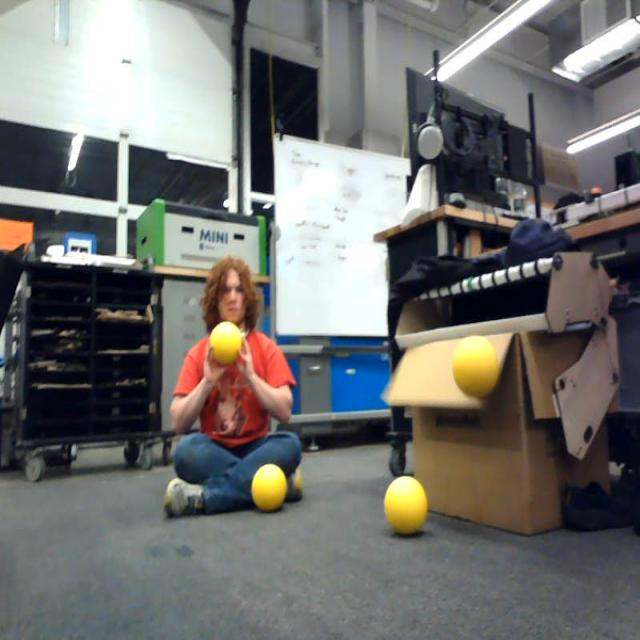Fuel: (452, 336, 499, 397), (384, 476, 428, 536), (252, 464, 287, 512), (210, 321, 242, 364)
